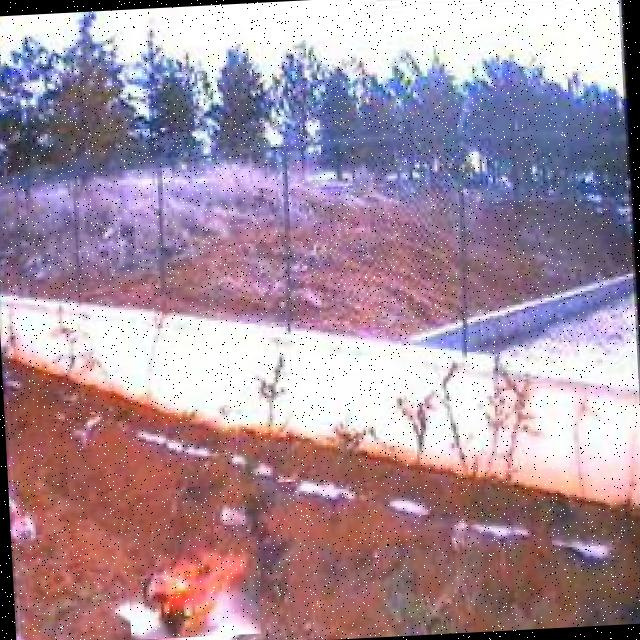fire: (126, 536, 261, 640)
